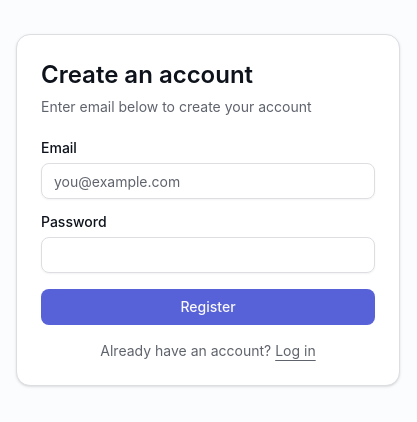
RegisterPage › shows the error message when registration rejects with an Error
Step 1. Type "taken@b.com" into the field with id "email" → (208, 181), box [41,163,375,199]
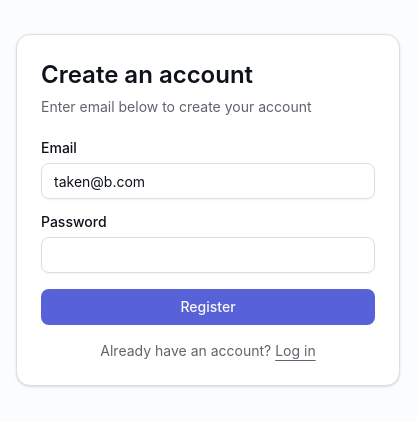
Step 2. Type "pw123456" into the password field labelled "Password" → (208, 255), box [41,237,375,273]
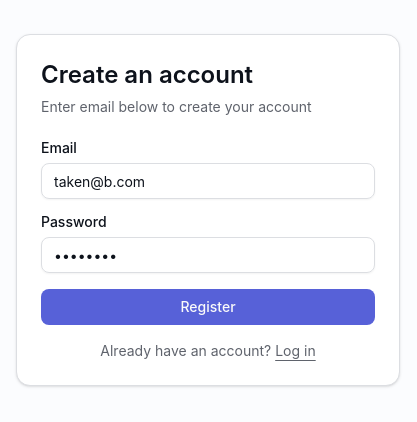
Step 3. Submit the form, box [41,141,375,325]
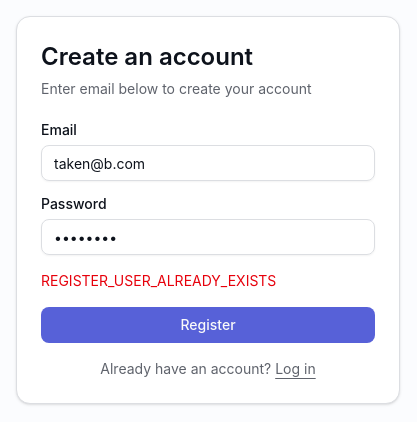
Now the text "REGISTER_USER_ALREADY_EXISTS" is shown, box [41,272,276,289]
